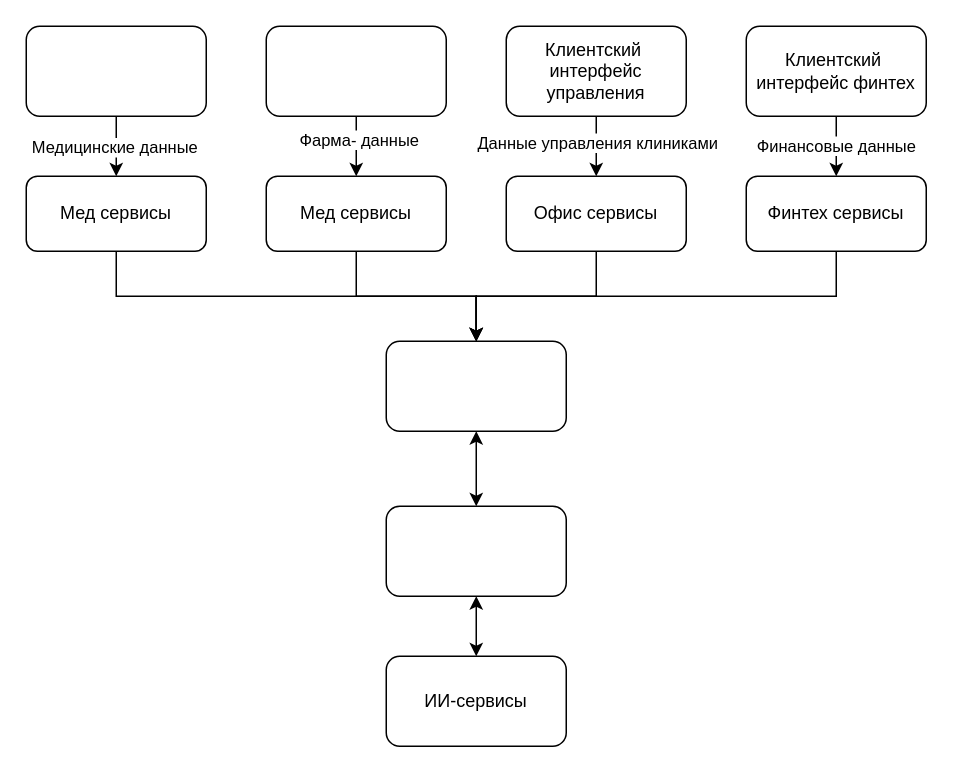
The diagram is 953 pixels wide and 773 high, and some of its shapes have lost their labels. Here are the shapes that lost their labels. From the top down, the centre of each, then its label:
(x=115, y=70): Клиентский интерфейс мед персонала
(x=355, y=70): Клиентский интерфейс фармацевтики
(x=475, y=385): Шина данных
(x=475, y=550): Data Platform
